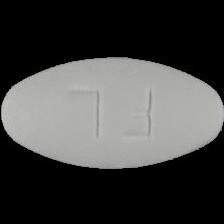35356-545: (0, 0, 224, 224)
